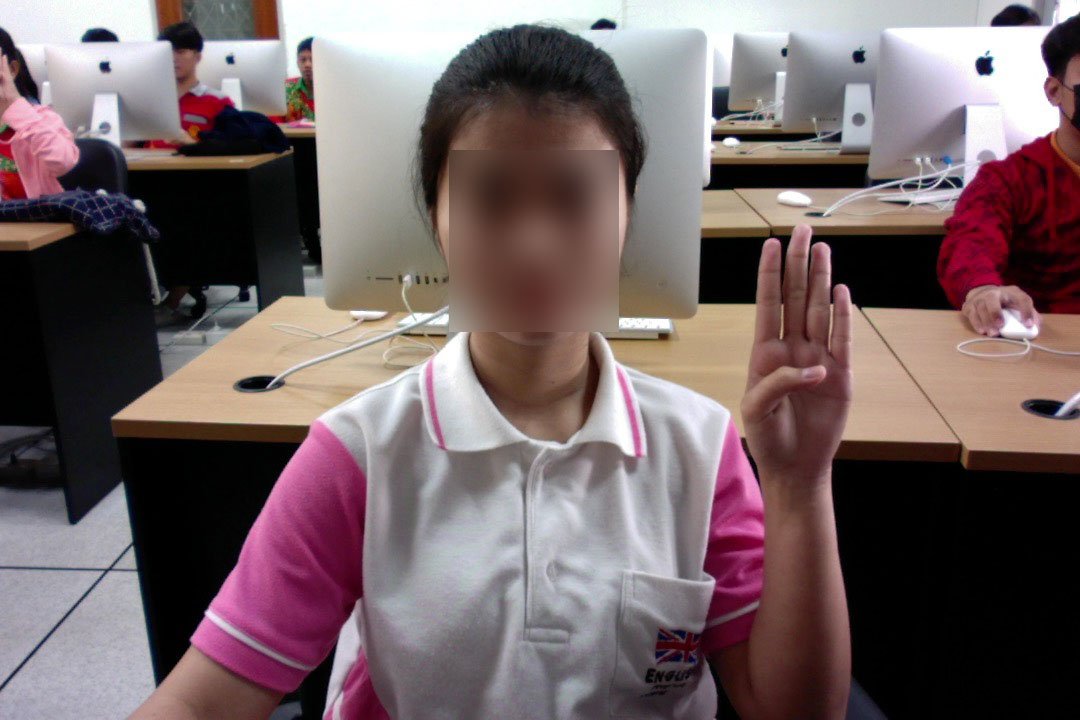bor: (735, 214, 857, 483)
